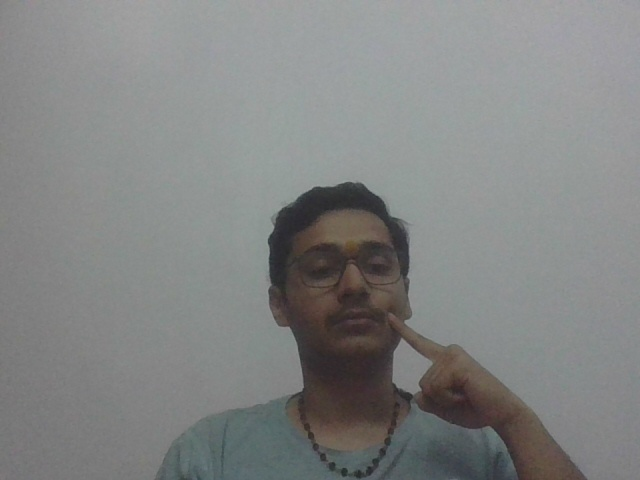I: (385, 308, 517, 431)
